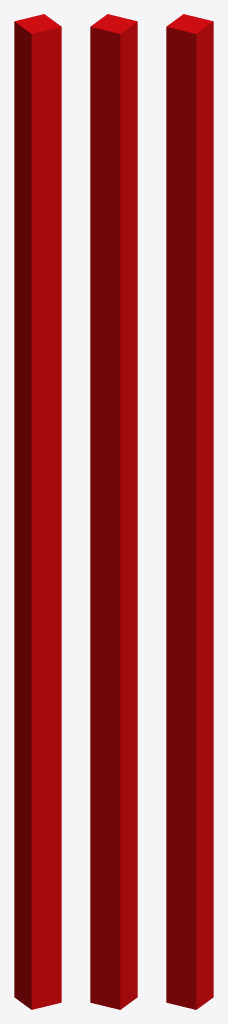
Rendered from laser.fbx.
The picture shows the model from 3 angles, left to right: view 1: azimuth 30°, elevation 25°; view 2: azimuth 150°, elevation 25°; view 3: azimuth 330°, elevation 25°; orthographic projection.
Visible parts, largest first — view 1: laser; view 2: laser; view 3: laser.
Boxes of the visible parts, x1=… form: laser: x1=14, y1=14, x2=61, y2=1009; laser: x1=90, y1=14, x2=137, y2=1009; laser: x1=166, y1=14, x2=213, y2=1009.
Bounding box in the file's own units: 100 × 3100 × 100.
